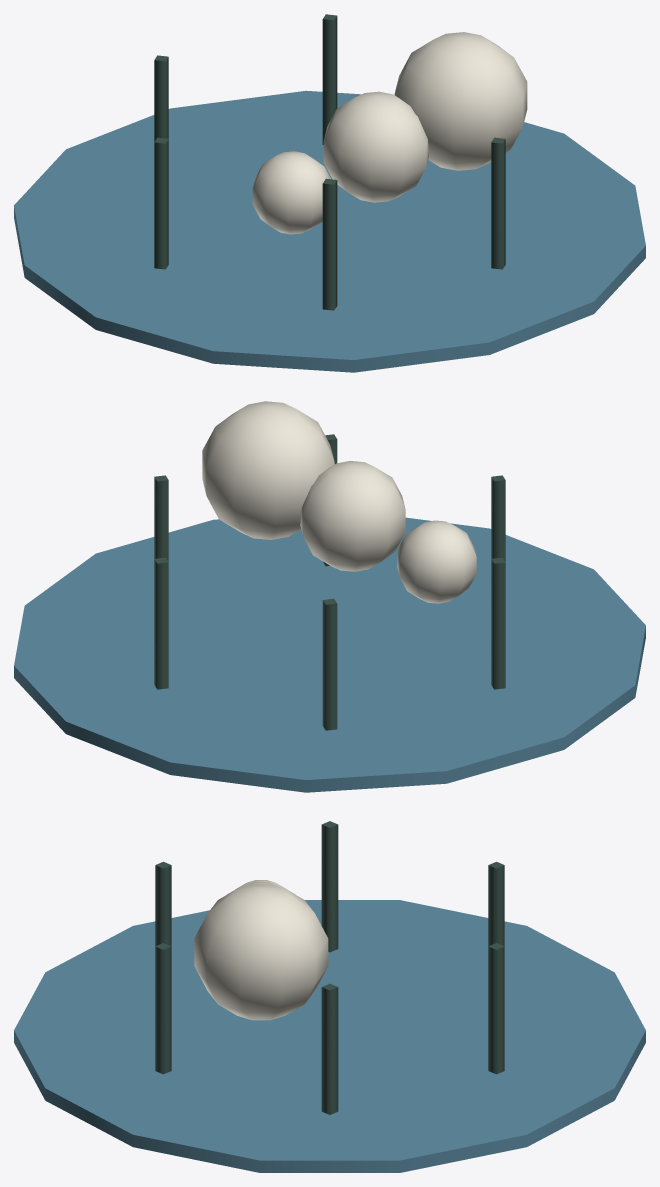
File: feature_mire.glb
3 views of the same model, one above another, from view 1: azimuth 30°, elevation 25°; view 2: azimuth 150°, elevation 25°; view 3: azimuth 270°, elevation 25° (orthographic).
Visible parts, largest first — view 1: _MeshInstance3D_275, _MeshInstance3D_284, _MeshInstance3D_283, _MeshInstance3D_282, _MeshInstance3D_278, _MeshInstance3D_277, _MeshInstance3D_279, _MeshInstance3D_281, _MeshInstance3D_280; view 2: _MeshInstance3D_275, _MeshInstance3D_284, _MeshInstance3D_283, _MeshInstance3D_282, _MeshInstance3D_280, _MeshInstance3D_281, _MeshInstance3D_279, _MeshInstance3D_278, _MeshInstance3D_276; view 3: _MeshInstance3D_275, _MeshInstance3D_284, _MeshInstance3D_276, _MeshInstance3D_277, _MeshInstance3D_281, _MeshInstance3D_279, _MeshInstance3D_278, _MeshInstance3D_280.
Part boxes in pixels (<box>): _MeshInstance3D_275: <box>14,90,645,372</box>; _MeshInstance3D_284: <box>394,32,527,170</box>; _MeshInstance3D_283: <box>323,91,428,202</box>; _MeshInstance3D_282: <box>252,151,330,234</box>; _MeshInstance3D_278: <box>322,178,337,310</box>; _MeshInstance3D_277: <box>491,137,505,269</box>; _MeshInstance3D_279: <box>154,137,168,269</box>; _MeshInstance3D_281: <box>322,14,337,144</box>; _MeshInstance3D_280: <box>154,55,168,141</box>; _MeshInstance3D_275: <box>14,517,645,792</box>; _MeshInstance3D_284: <box>202,401,334,539</box>; _MeshInstance3D_283: <box>300,461,405,571</box>; _MeshInstance3D_282: <box>397,520,476,603</box>; _MeshInstance3D_280: <box>322,598,337,730</box>; _MeshInstance3D_281: <box>154,557,168,689</box>; _MeshInstance3D_279: <box>491,557,505,689</box>; _MeshInstance3D_278: <box>491,475,505,561</box>; _MeshInstance3D_276: <box>154,475,168,561</box>; _MeshInstance3D_275: <box>14,900,645,1172</box>; _MeshInstance3D_284: <box>194,884,328,1020</box>; _MeshInstance3D_276: <box>321,983,338,1114</box>; _MeshInstance3D_277: <box>155,943,171,1074</box>; _MeshInstance3D_281: <box>488,943,504,1074</box>; _MeshInstance3D_279: <box>321,821,338,952</box>; _MeshInstance3D_278: <box>155,861,171,946</box>; _MeshInstance3D_280: <box>488,861,504,946</box>.
Size of the model in its own units: 0.8969 by 0.32 by 0.92.
